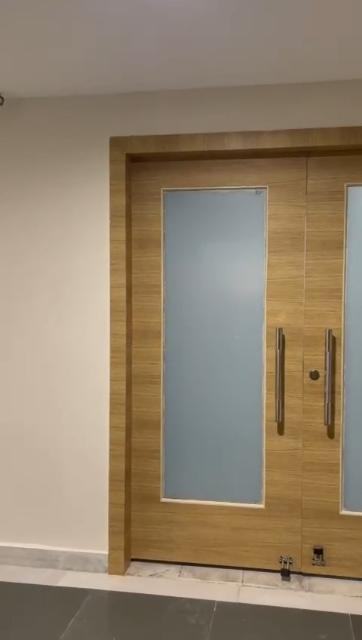door: (106, 134, 362, 548)
floor: (2, 570, 362, 640)
wall: (0, 96, 108, 540)
